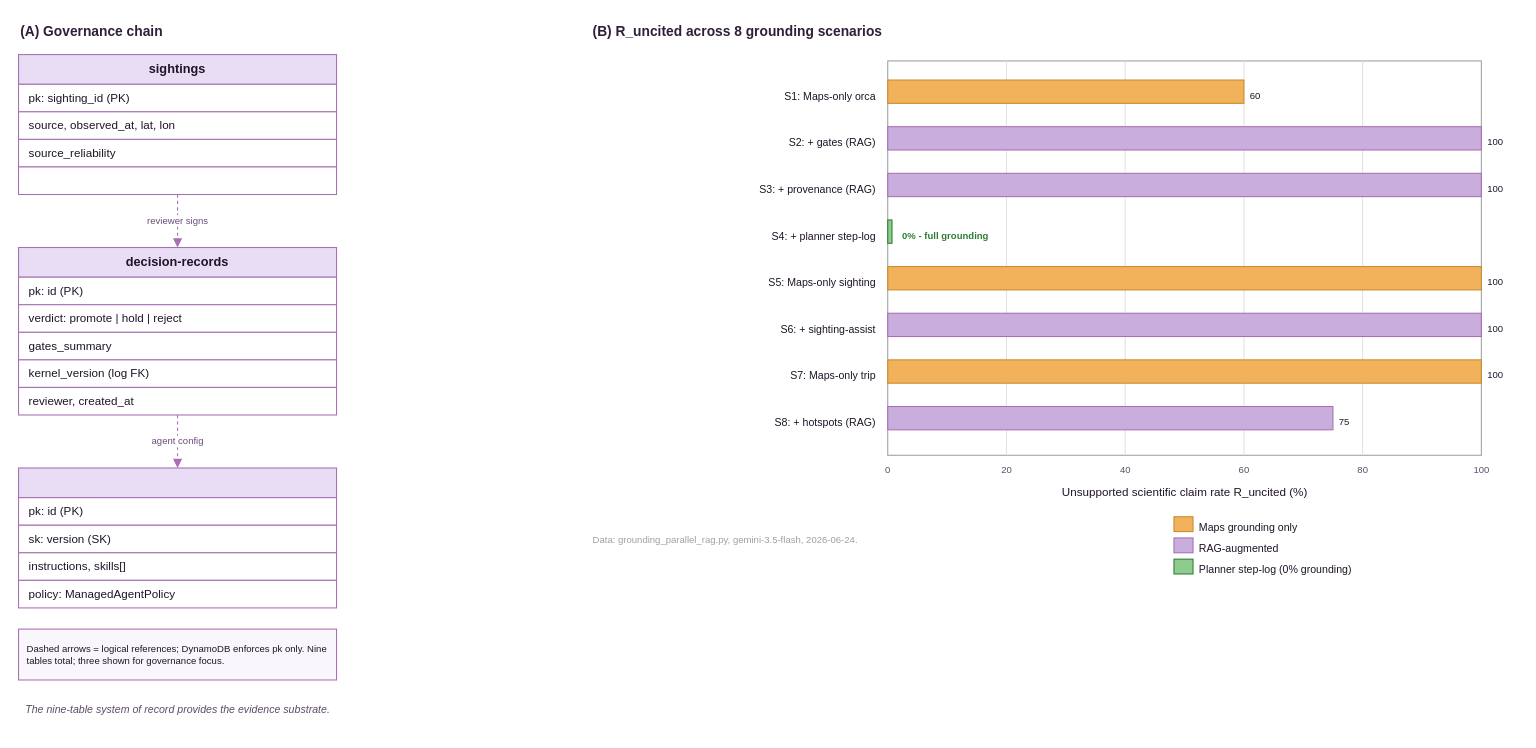
This 1536x748 diagram has some shape labels left out. Each missing label, with the centre of its shape:
ingestion_run_id (log FK): (177,180)
managed-agents: (177,482)
